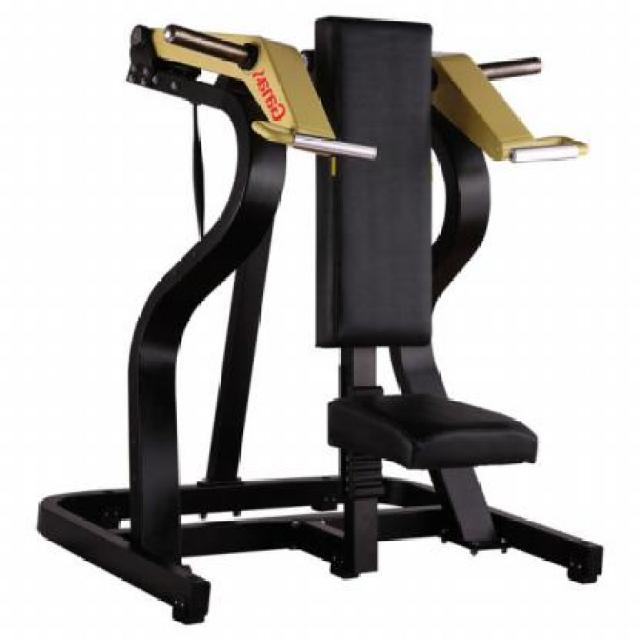shoulder press machine: (31, 16, 602, 624)
